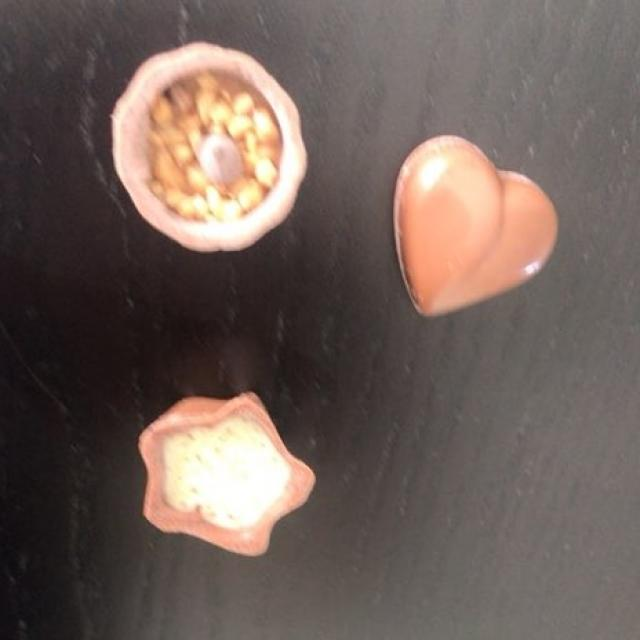praline: (98, 38, 564, 571)
